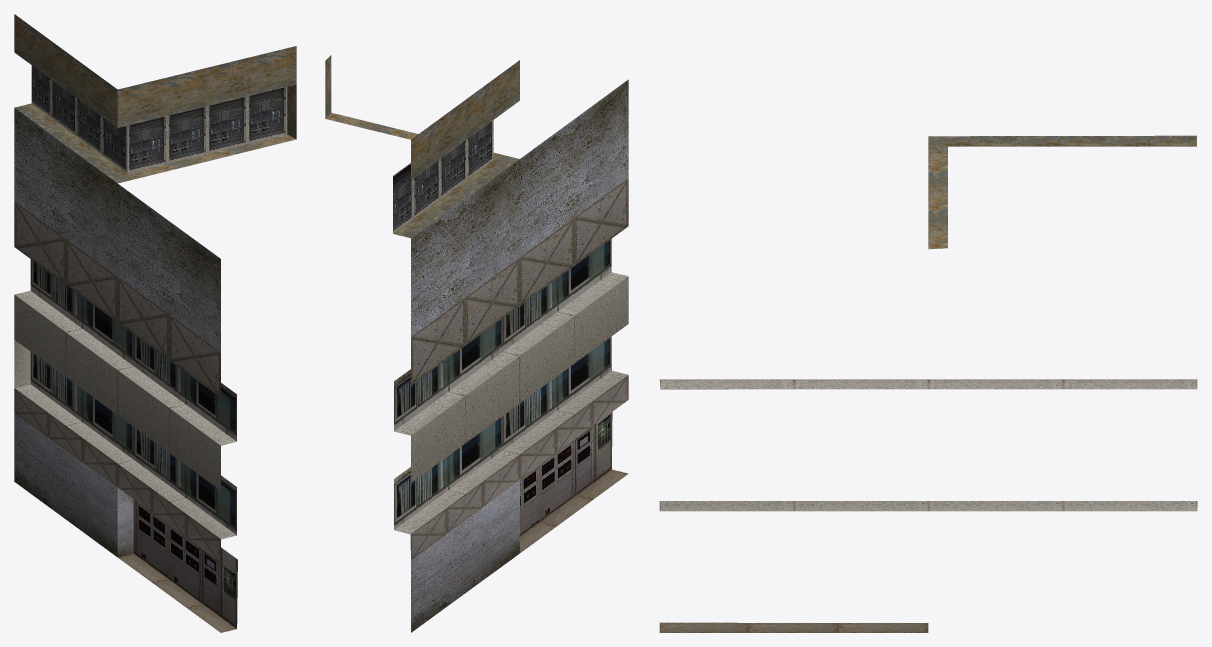
Rendered from M11Z1_Building02_D2.glb.
The picture shows the model from 3 angles, left to right: view 1: azimuth 30°, elevation 25°; view 2: azimuth 150°, elevation 25°; view 3: azimuth 270°, elevation 25°; orthographic projection. The views are drawn at different scales.
Visible parts, largest first — view 1: M11Z1_BUILDING02_D2; view 2: M11Z1_BUILDING02_D2; view 3: M11Z1_BUILDING02_D2.
Boxes of the visible parts, x1,y1,x2,y2 form: M11Z1_BUILDING02_D2: [14, 14, 296, 632]; M11Z1_BUILDING02_D2: [325, 55, 628, 632]; M11Z1_BUILDING02_D2: [659, 135, 1197, 632].
Bounding box in the file's own units: 8 × 20.01 × 16.09.
8 materials, 8 textured.
